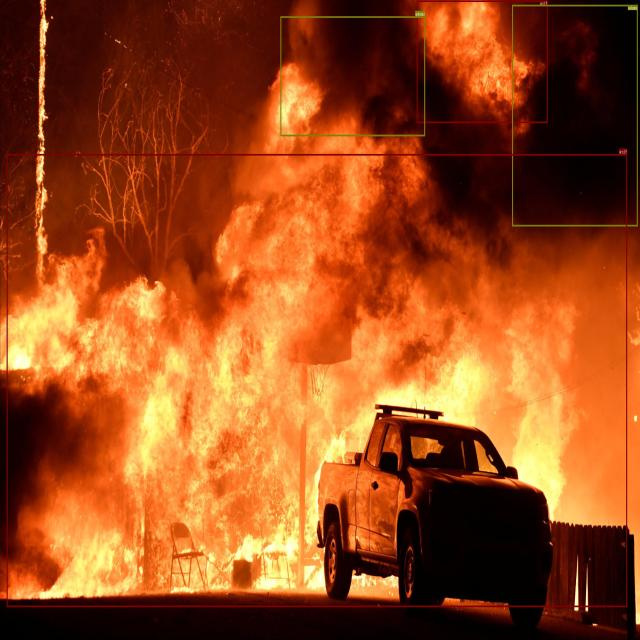fire: (7, 154, 627, 606), (417, 0, 548, 123)
smoke: (512, 5, 638, 226), (281, 16, 425, 136)
